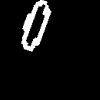chain: (22, 0, 50, 50)
